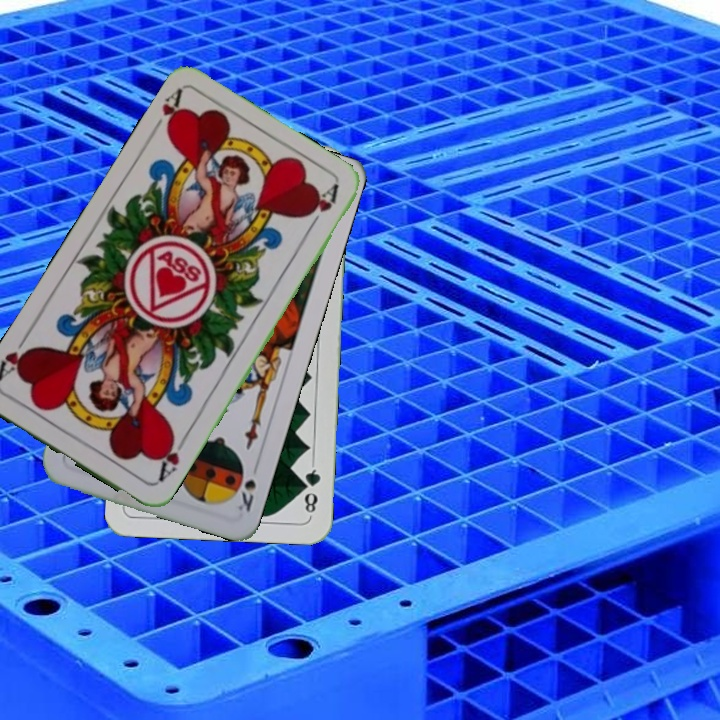G8: (299, 459, 323, 519)
HA: (146, 85, 187, 139), (154, 432, 190, 485)
SK: (230, 475, 259, 515)
